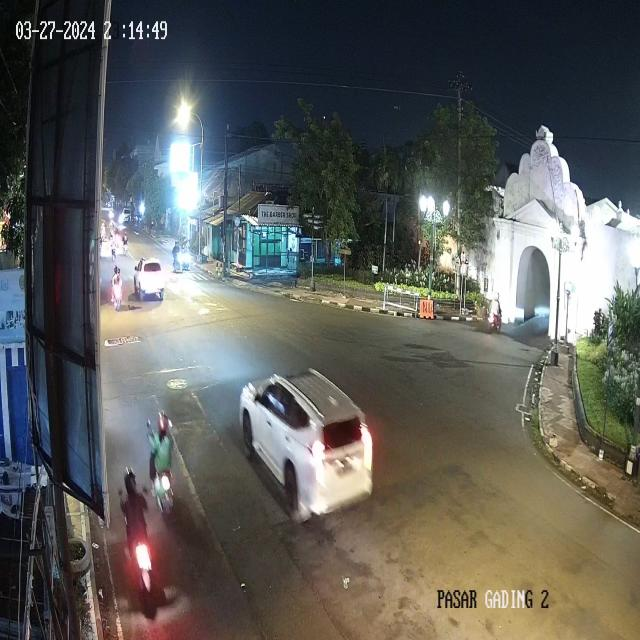car: (239, 368, 377, 524), (133, 259, 166, 301)
motorcycle: (116, 455, 152, 612), (150, 410, 177, 519), (488, 290, 501, 336), (111, 266, 123, 311), (172, 240, 183, 274), (180, 237, 188, 274), (111, 237, 117, 262), (123, 230, 129, 253)
